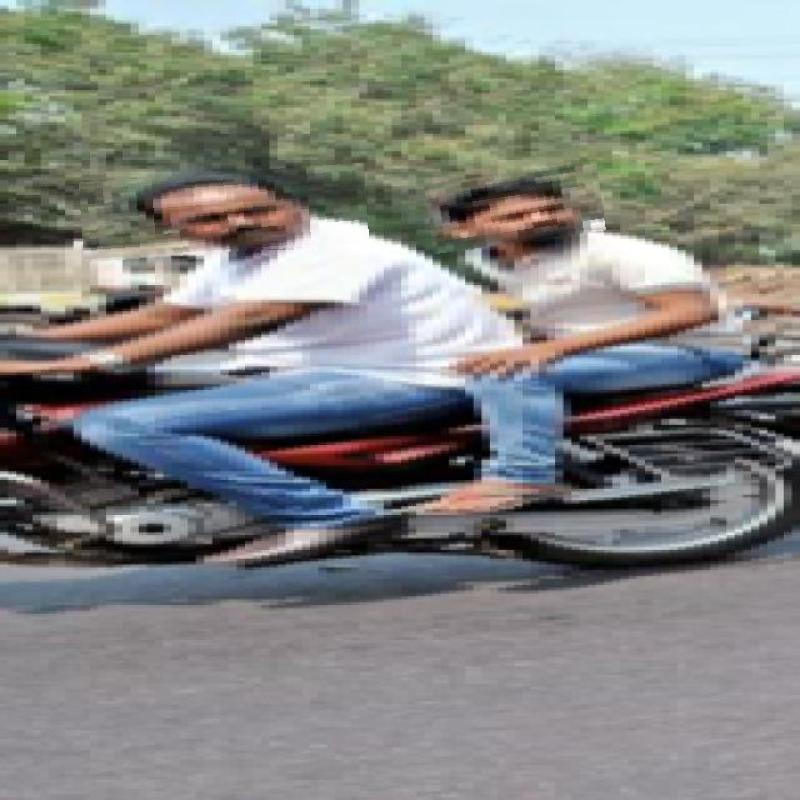nohelmet: (81, 168, 368, 258), (427, 167, 604, 248)
